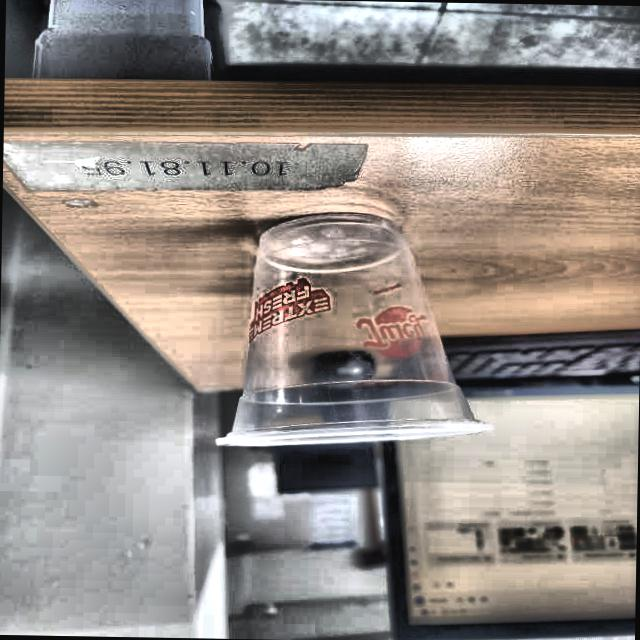plastic cup: (211, 209, 495, 452)
